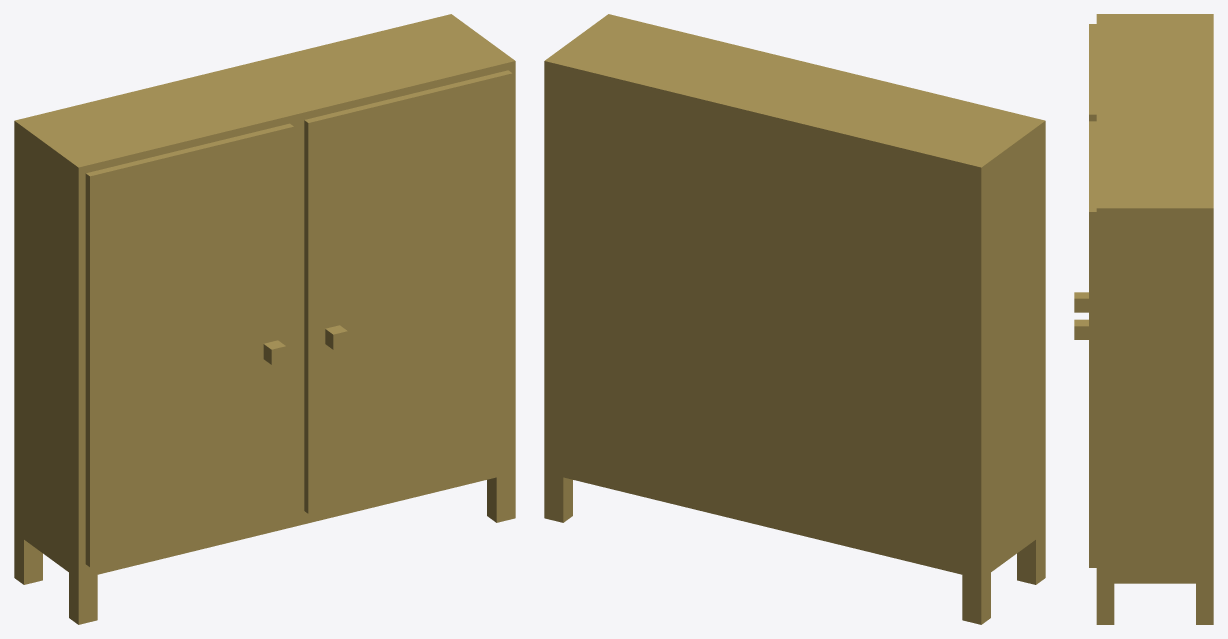
File: Large wardrobe.fbx
The picture shows the model from 3 angles, left to right: view 1: azimuth 30°, elevation 25°; view 2: azimuth 150°, elevation 25°; view 3: azimuth 270°, elevation 25°; orthographic projection. The views are drawn at different scales.
Parts seen in each view (by area): view 1: Large Wardrobe; view 2: Large Wardrobe; view 3: Large Wardrobe.
Boxes of the visible parts, x1,y1,x2,y2 form: Large Wardrobe: (14,14,515,624); Large Wardrobe: (544,14,1045,624); Large Wardrobe: (1074,14,1213,624).
Bounding box in the file's own units: 2.4 × 2.4 × 0.7269.
